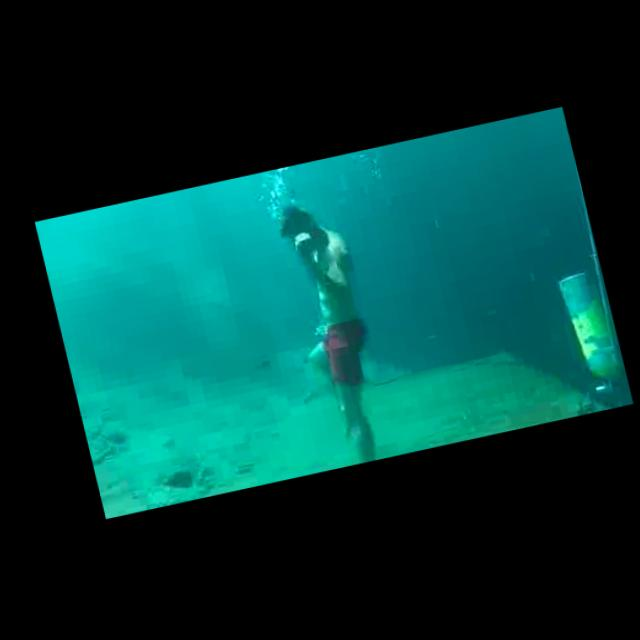human: (263, 190, 401, 473)
